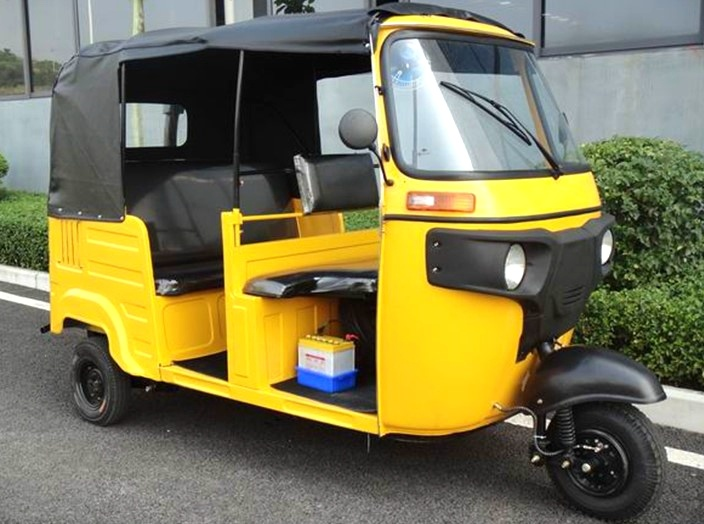auto: (34, 10, 689, 521)
